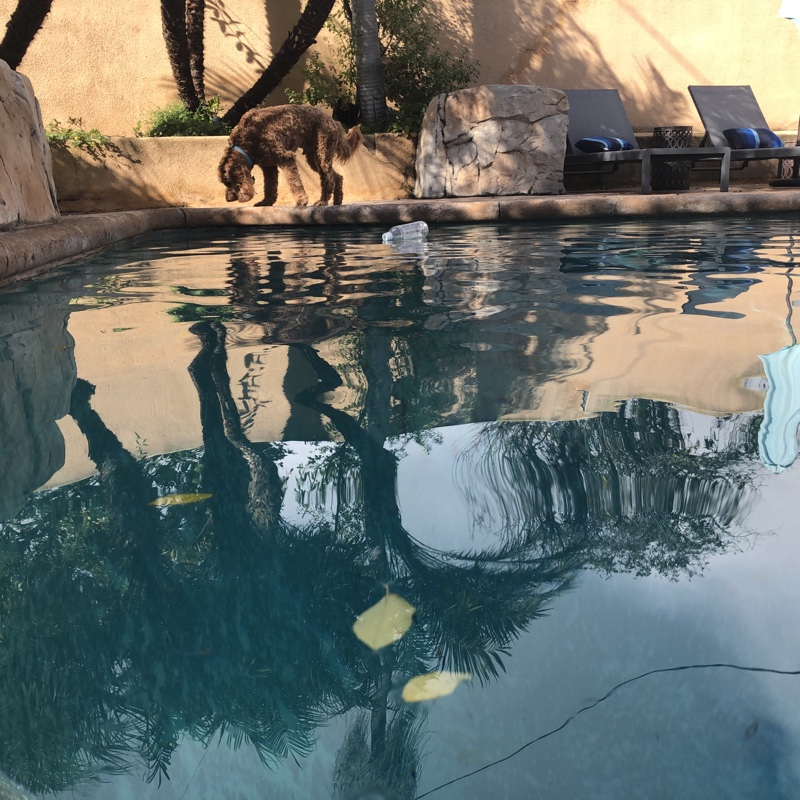Plastic Bottle: (379, 221, 431, 245)
